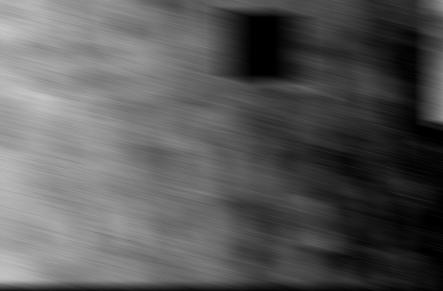Airbag: (0, 0, 442, 290), (431, 0, 443, 132)
